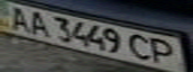3: (48, 15, 75, 43)
4: (66, 19, 90, 47), (84, 22, 106, 52)
9: (103, 26, 127, 55)
A: (3, 3, 33, 33), (24, 8, 54, 37)
C: (127, 32, 157, 62)
P: (145, 36, 184, 66)
